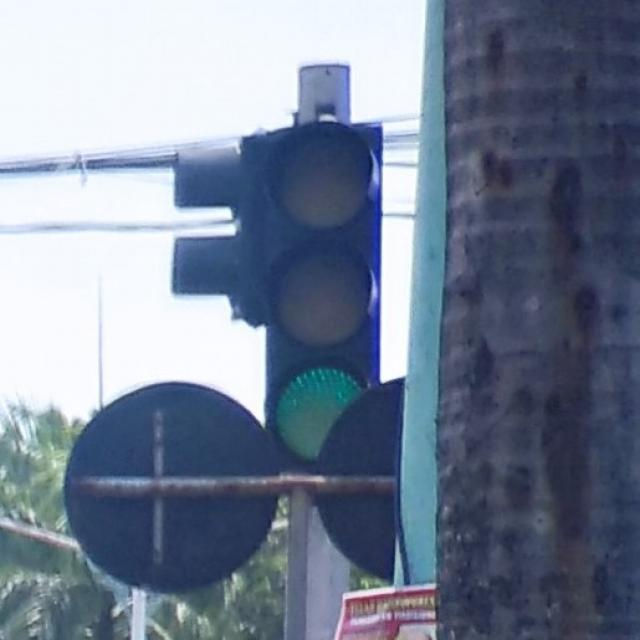Lampu Hijau: (262, 128, 380, 469)
